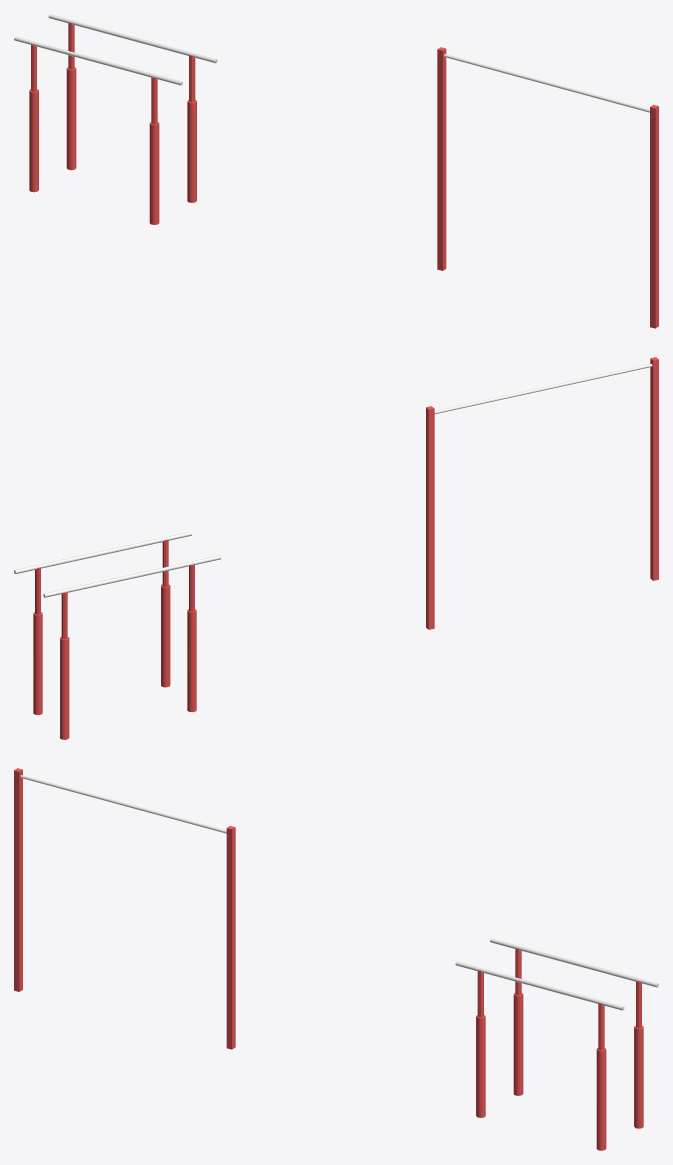
The model's file is 健身器材.fbx.
3 renders of one model, top to bottom at view 1: azimuth 90°, elevation 25°; view 2: azimuth 150°, elevation 25°; view 3: azimuth 270°, elevation 25°, orthographic.
Parts seen in each view (by area): view 1: Cylinder393, Box504, Cylinder397, Cylinder400, Cylinder392; view 2: Cylinder393, Box504, Cylinder400, Cylinder397, Cylinder392; view 3: Cylinder393, Box504, Cylinder400, Cylinder397, Cylinder392.
Part boxes in pixels (x1=…): Cylinder393: x1=29, y1=22, x2=196, y2=224; Box504: x1=437, y1=47, x2=658, y2=328; Cylinder397: x1=48, y1=14, x2=217, y2=63; Cylinder400: x1=14, y1=36, x2=182, y2=85; Cylinder392: x1=443, y1=54, x2=649, y2=112; Cylinder393: x1=33, y1=539, x2=196, y2=739; Box504: x1=426, y1=357, x2=658, y2=629; Cylinder400: x1=43, y1=555, x2=221, y2=597; Cylinder397: x1=14, y1=532, x2=191, y2=573; Cylinder392: x1=434, y1=364, x2=652, y2=413; Cylinder393: x1=476, y1=948, x2=643, y2=1150; Box504: x1=14, y1=768, x2=235, y2=1049; Cylinder400: x1=490, y1=938, x2=658, y2=987; Cylinder397: x1=455, y1=961, x2=624, y2=1010; Cylinder392: x1=20, y1=775, x2=226, y2=833.
Size of the model in its own units: 15.87 by 9.74 by 25.87.
